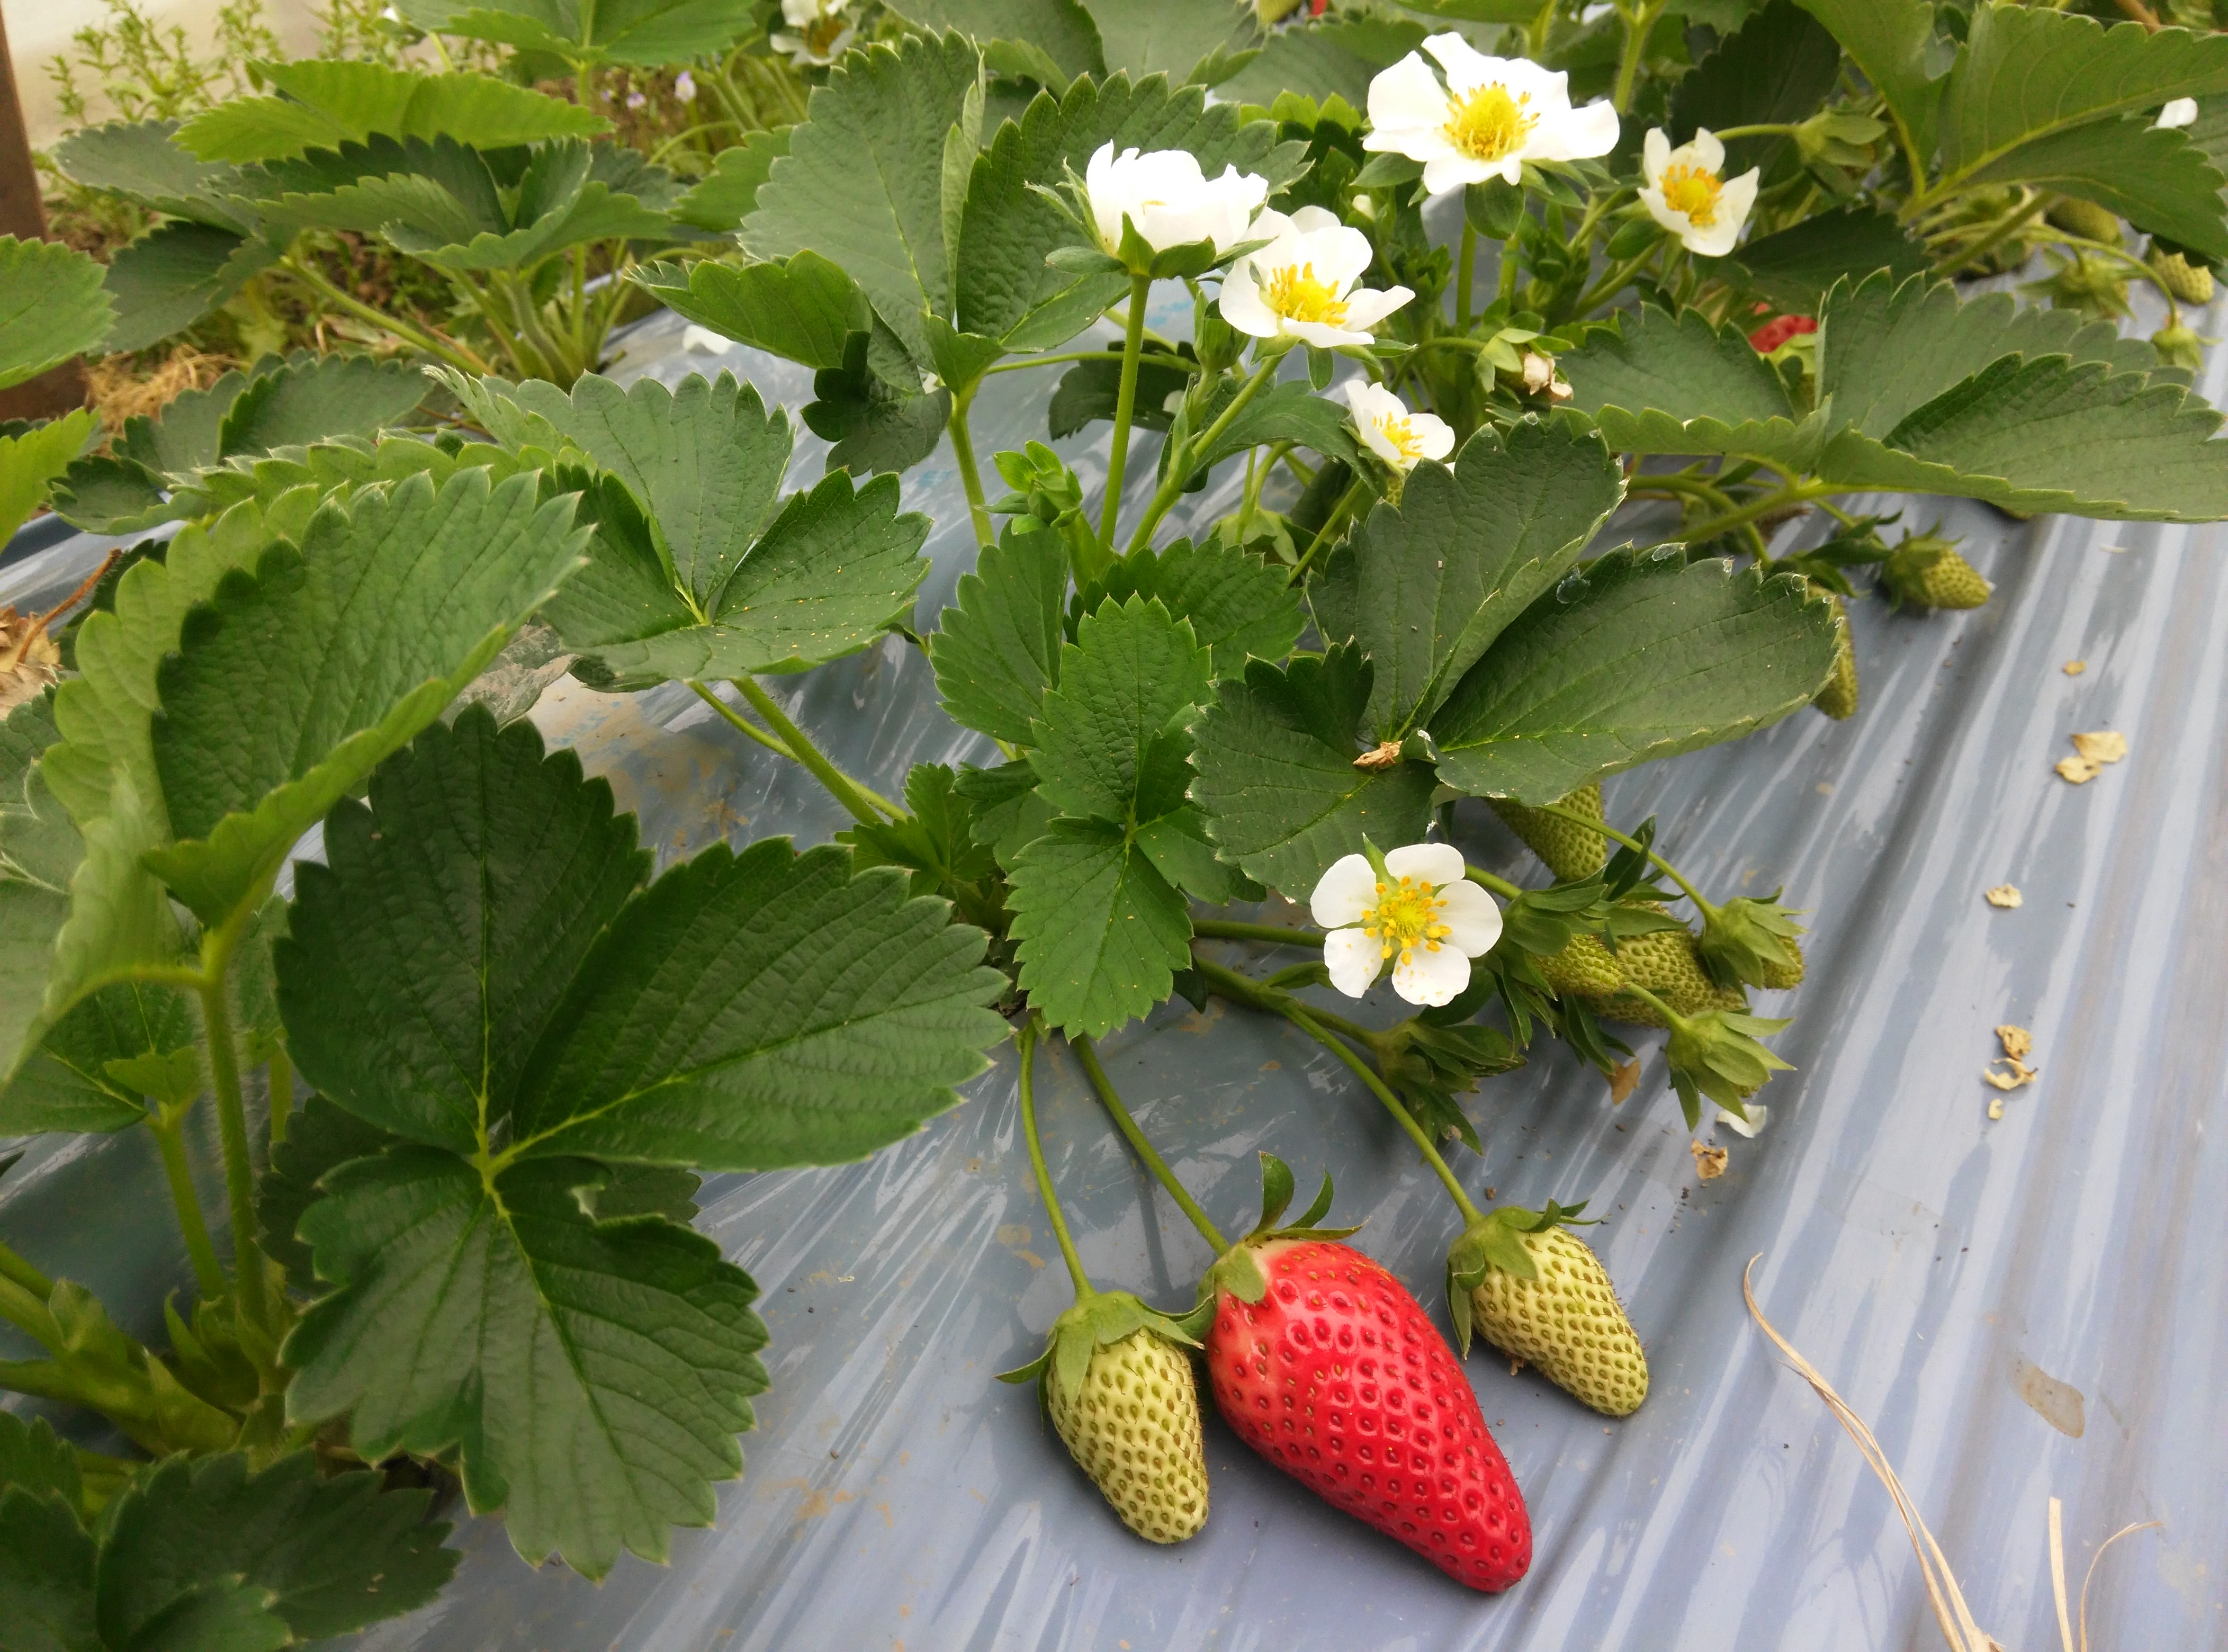StrawberryIrremovable: (1452, 1211, 1659, 1430), (1039, 1300, 1208, 1548), (1576, 899, 1761, 1019), (1766, 574, 1865, 727), (1888, 515, 2006, 619), (1499, 779, 1615, 882), (1515, 904, 1631, 998), (1707, 895, 1812, 987)
StrawberryRemovable: (1202, 1220, 1534, 1593)
StrawberryWedge: (1197, 1211, 1536, 1593)
